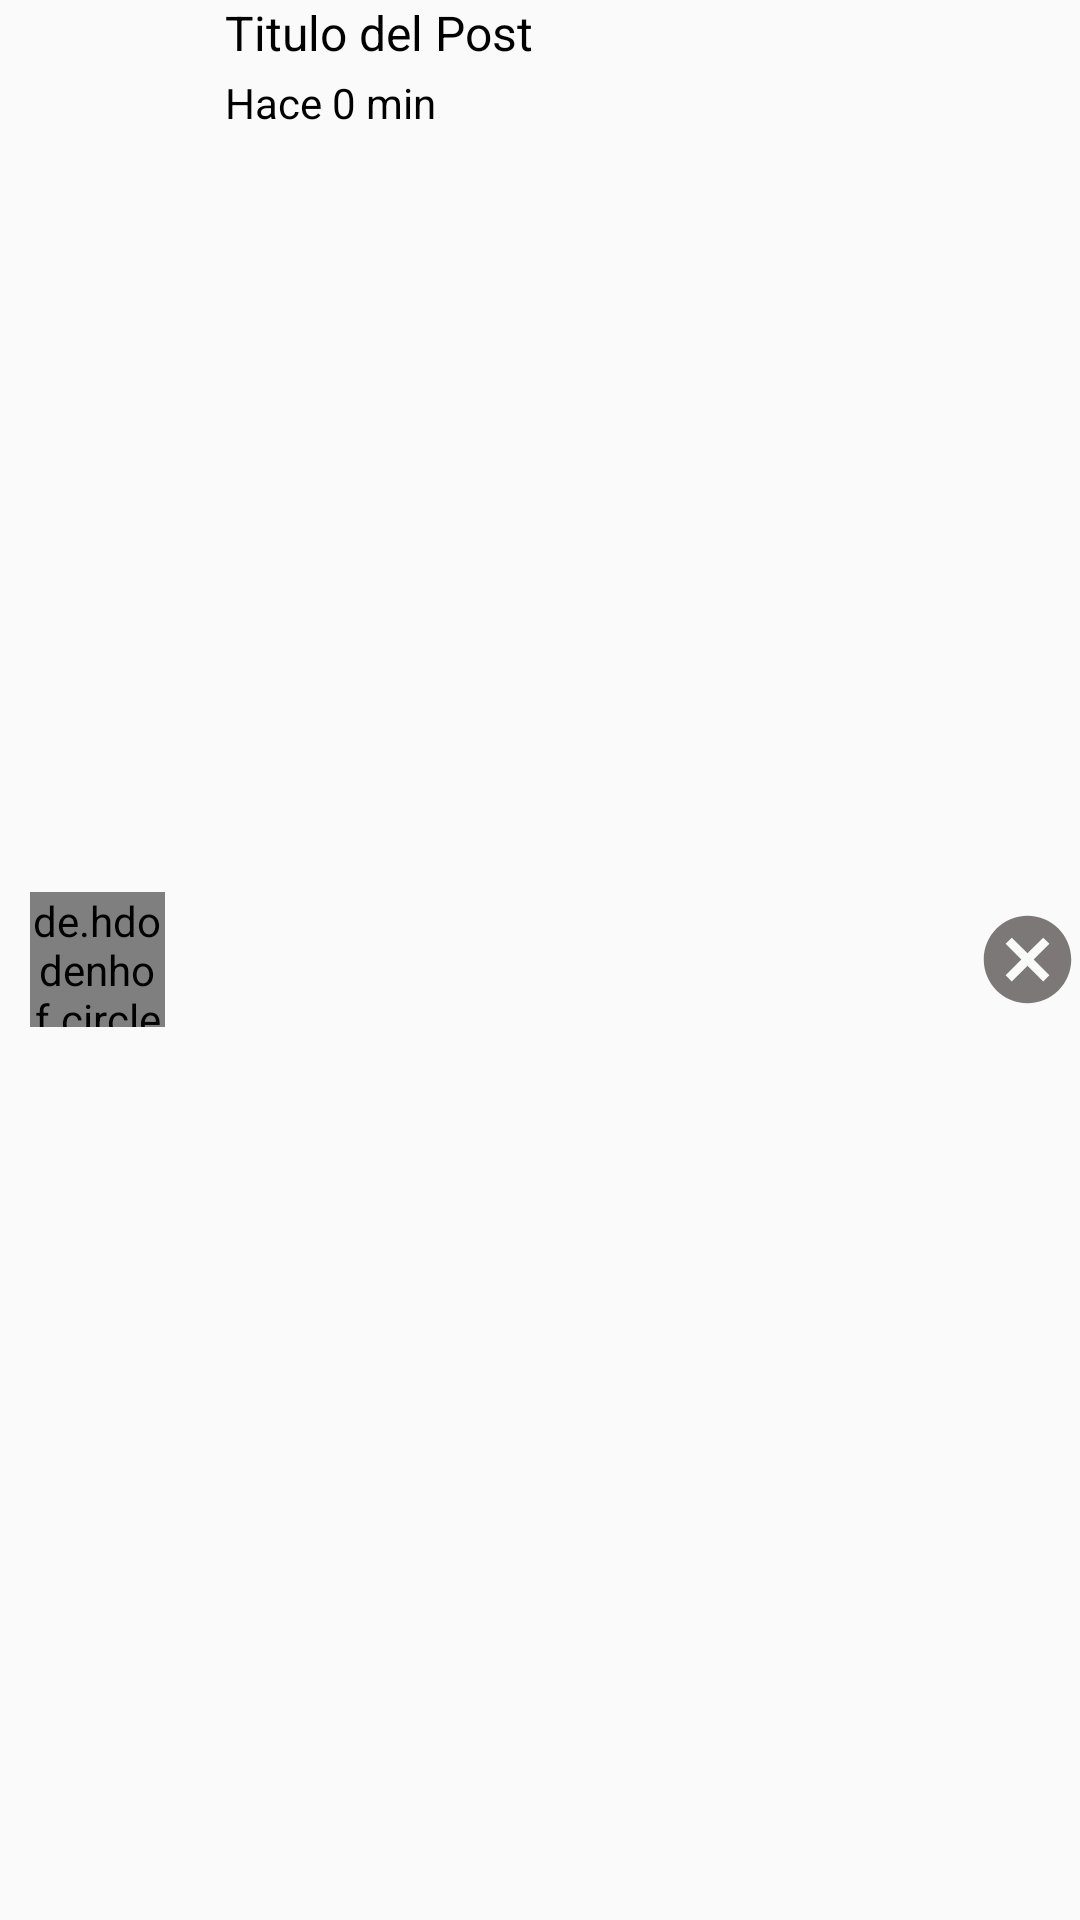

Screen size 1080px x 1920px. Icon name, then its center in pixels as (x=x, y=y):
cancel: (x=1027, y=959)
